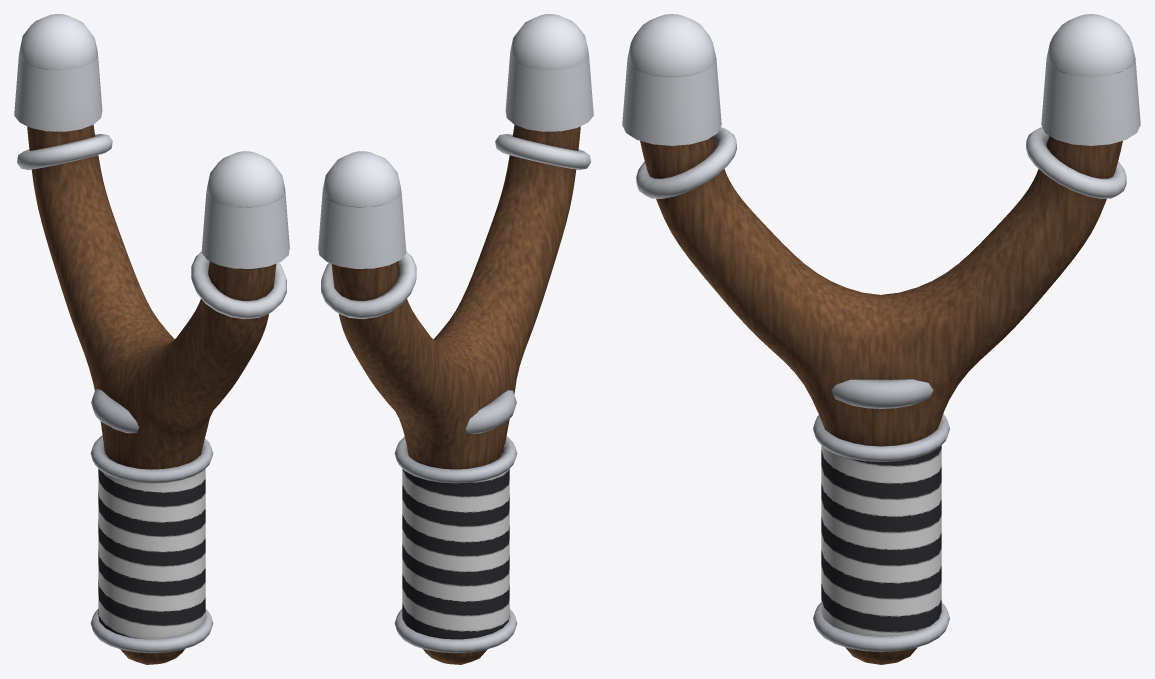
The model's file is Sturdy Slingshot.fbx.
3 views of the same model, side by side, from view 1: azimuth 30°, elevation 25°; view 2: azimuth 150°, elevation 25°; view 3: azimuth 270°, elevation 25° (orthographic). The views are drawn at different scales.
Parts seen in each view (by area): view 1: Sturdy Slingshot; view 2: Sturdy Slingshot; view 3: Sturdy Slingshot.
Part boxes in pixels (x1=…): Sturdy Slingshot: x1=14, y1=14, x2=289, y2=664; Sturdy Slingshot: x1=318, y1=14, x2=593, y2=664; Sturdy Slingshot: x1=622, y1=14, x2=1140, y2=664.
Bounding box in the file's own units: 2.62 × 13.52 × 9.9.
Materials: 1 (1 with a texture image).
